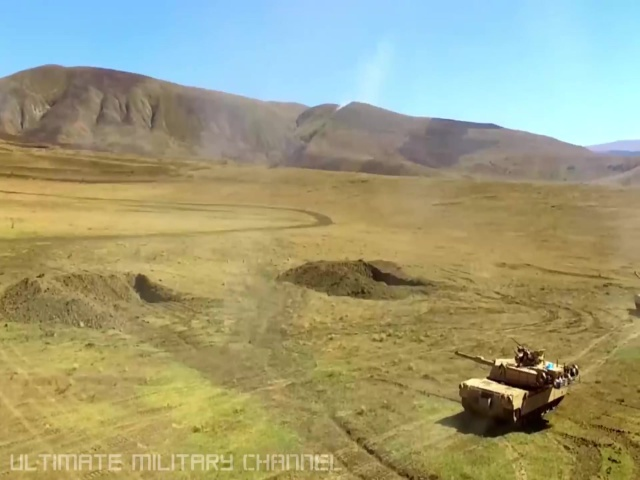vehicle: (458, 349, 578, 428)
